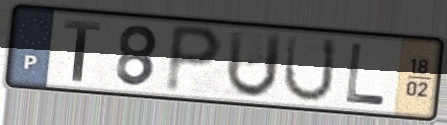8: (114, 23, 159, 89)
L: (343, 40, 388, 108)
P: (162, 21, 227, 97)
T: (61, 17, 103, 84)
U: (223, 28, 286, 101), (280, 33, 340, 105)
